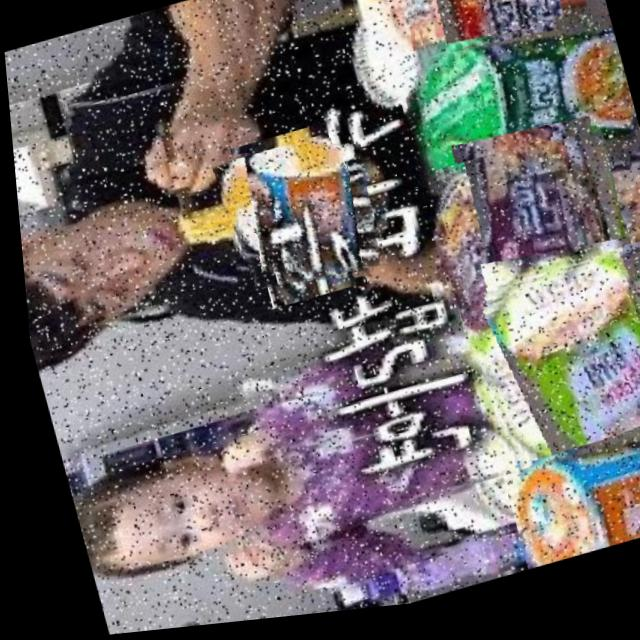Miscellaneous: (383, 12, 640, 215), (427, 128, 640, 367), (449, 253, 640, 502), (204, 132, 382, 312), (486, 422, 640, 581), (386, 0, 594, 96)
